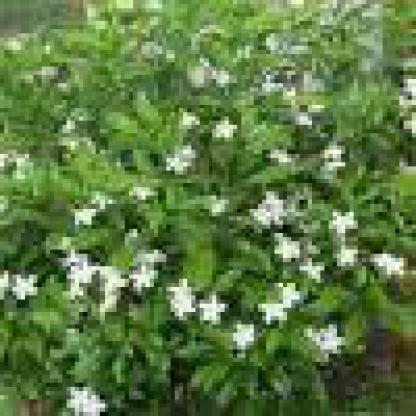Melati: (55, 230, 167, 317), (167, 284, 259, 359)
